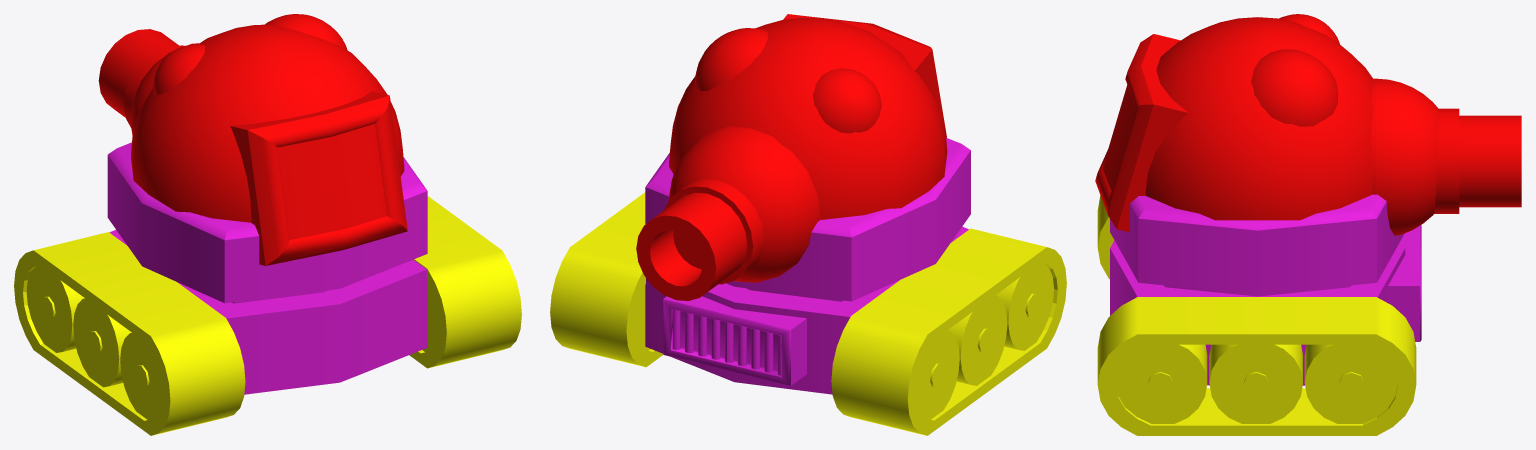
The model's file is Mesh_EnemyGruntBasic_Ranged.fbx.
The picture shows the model from 3 angles, left to right: view 1: azimuth 30°, elevation 25°; view 2: azimuth 150°, elevation 25°; view 3: azimuth 270°, elevation 25°; orthographic projection.
Parts seen in each view (by area): view 1: Tracks, Head, Back_Pannel, Upper_Half, Body, Wheels, Barrel, Eye_L, Eye_R, Barrel_ring, Wheel_Bolts, Barrel_Ball; view 2: Tracks, Head, Upper_Half, Barrel_Ball, Wheels, Barrel, Body, Grate_Shell, Eye_L, Grate_bars, Eye_R, Barrel_ring (+2 smaller); view 3: Head, Tracks, Upper_Half, Wheels, Barrel_Ball, Back_Pannel, Barrel, Eye_R, Body, Grate_Shell, Barrel_ring, Wheel_Bolts (+1 smaller).
Part boxes in pixels (<box>): Tracks: <box>14,196,521,435</box>; Head: <box>131,24,404,222</box>; Back_Pannel: <box>230,91,407,265</box>; Upper_Half: <box>107,142,427,303</box>; Body: <box>109,230,427,394</box>; Wheels: <box>26,265,437,419</box>; Barrel: <box>98,29,178,117</box>; Eye_L: <box>153,44,205,95</box>; Eye_R: <box>265,14,347,49</box>; Barrel_ring: <box>123,45,183,127</box>; Wheel_Bolts: <box>41,296,149,388</box>; Barrel_Ball: <box>130,43,198,135</box>; Tracks: <box>550,192,1066,435</box>; Head: <box>669,18,947,219</box>; Upper_Half: <box>645,138,970,301</box>; Barrel_Ball: <box>668,126,820,282</box>; Wheels: <box>635,262,1053,419</box>; Barrel: <box>636,192,747,300</box>; Body: <box>645,226,968,394</box>; Grate_Shell: <box>663,296,806,385</box>; Eye_L: <box>813,68,881,133</box>; Grate_bars: <box>672,309,781,375</box>; Eye_R: <box>694,28,768,91</box>; Barrel_ring: <box>664,179,764,284</box>; Head: <box>1145,17,1373,220</box>; Tracks: <box>1097,195,1416,435</box>; Upper_Half: <box>1110,194,1404,294</box>; Wheels: <box>1116,344,1397,423</box>; Barrel_Ball: <box>1371,78,1438,235</box>; Back_Pannel: <box>1095,34,1188,232</box>; Barrel: <box>1459,115,1521,207</box>; Eye_R: <box>1251,49,1338,126</box>; Body: <box>1110,240,1405,385</box>; Grate_Shell: <box>1387,225,1421,341</box>; Barrel_ring: <box>1434,108,1459,213</box>; Wheel_Bolts: <box>1147,371,1364,395</box>.
Bounding box in the file's own units: 280 × 238 × 289.
